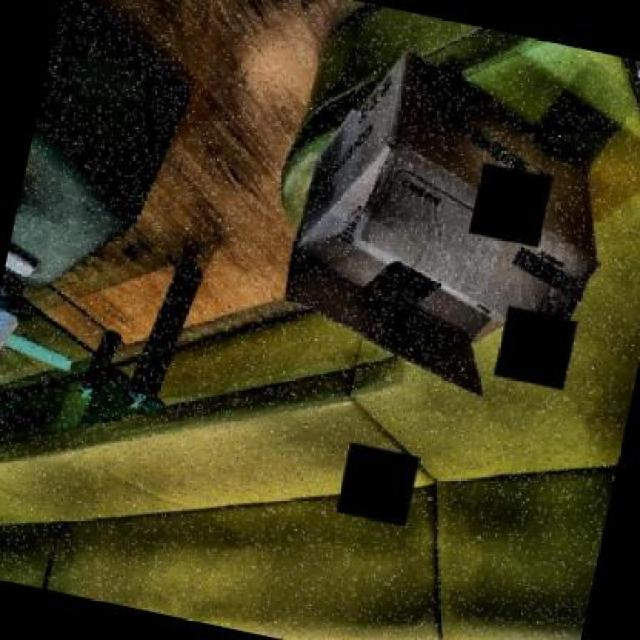box: (259, 38, 633, 420)
